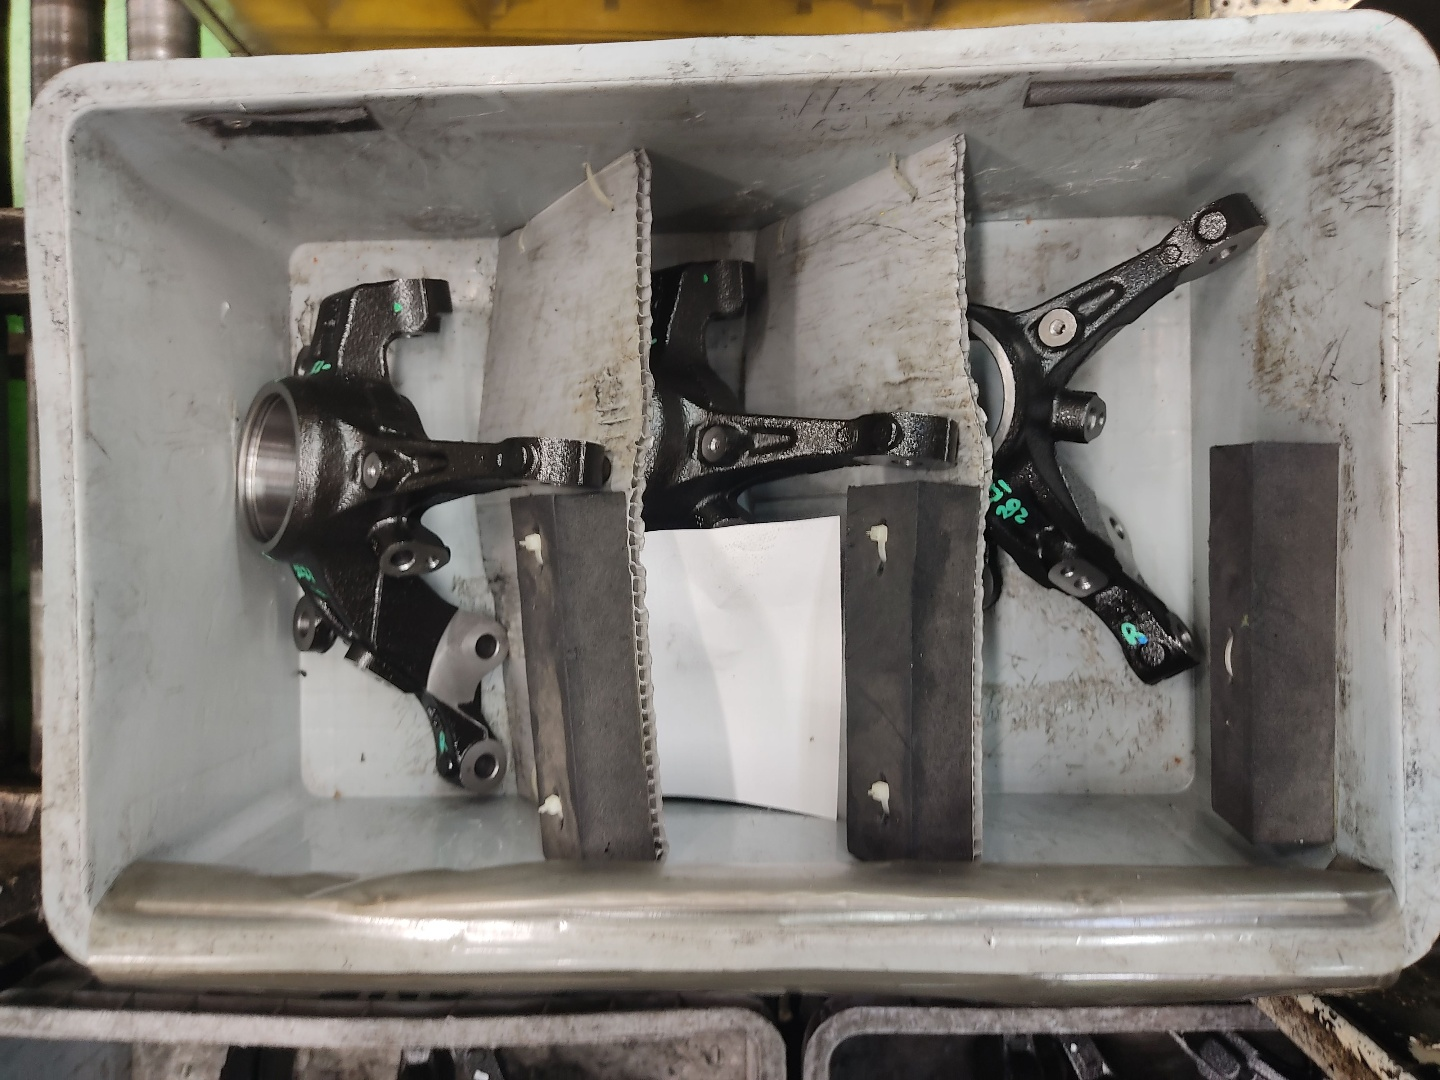abs-rh: (229, 268, 617, 805), (625, 248, 962, 803), (960, 188, 1274, 724)
